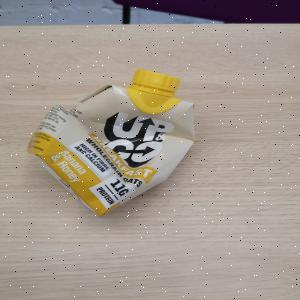Trash: (27, 69, 199, 219)
